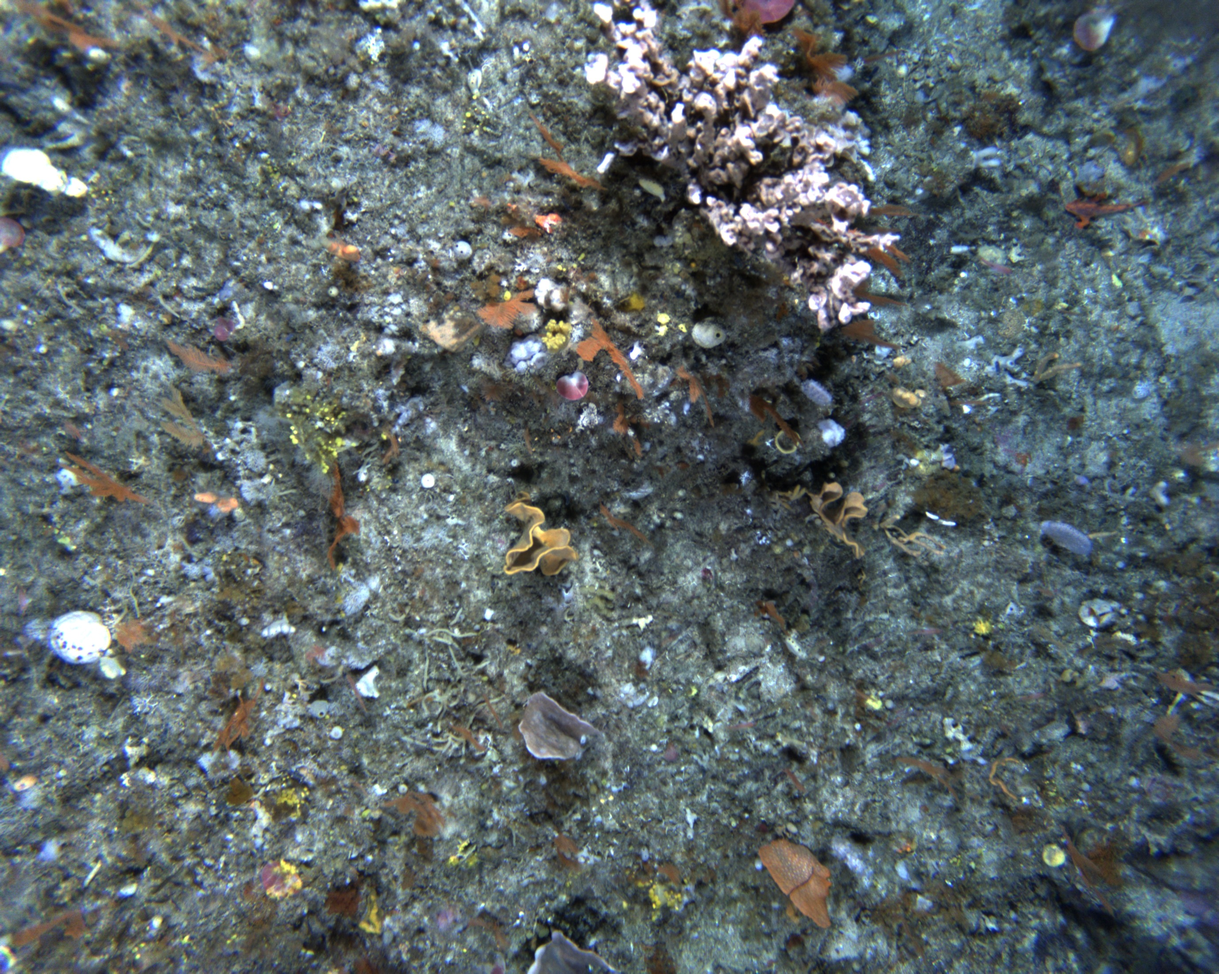Brachionichthyidae: (1063, 192, 1150, 230)
